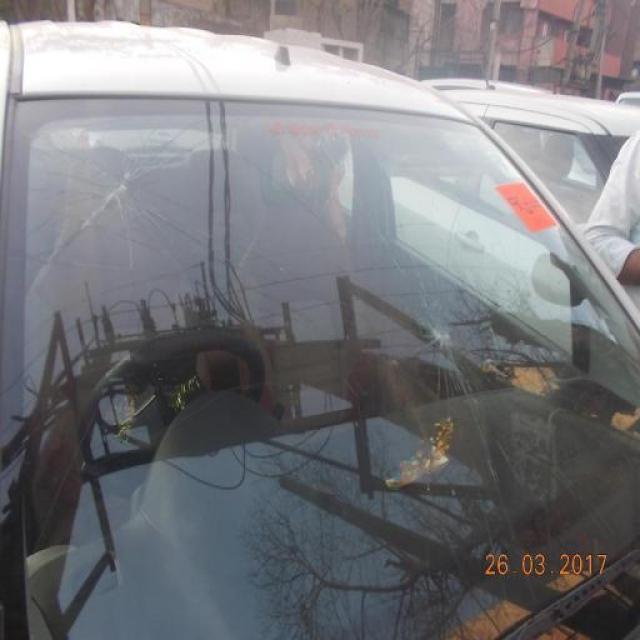crack: (89, 159, 159, 225), (416, 307, 466, 359)
